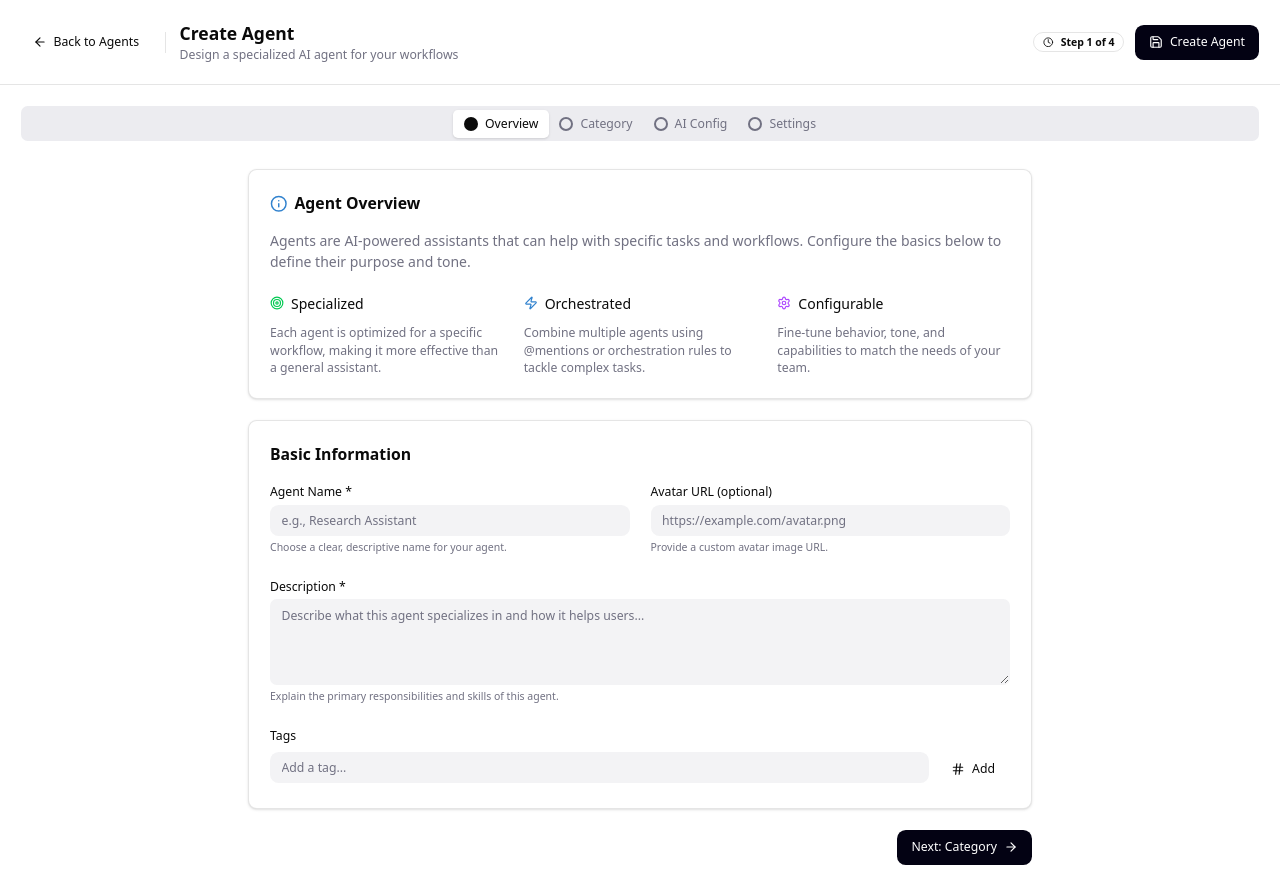
Test case: SubAgentCreate wizard flow › should alert overview validation when required fields are missing
The image size is (1280, 885).
Click the button "Create Agent": (1197, 42) [1135,24,1259,60]
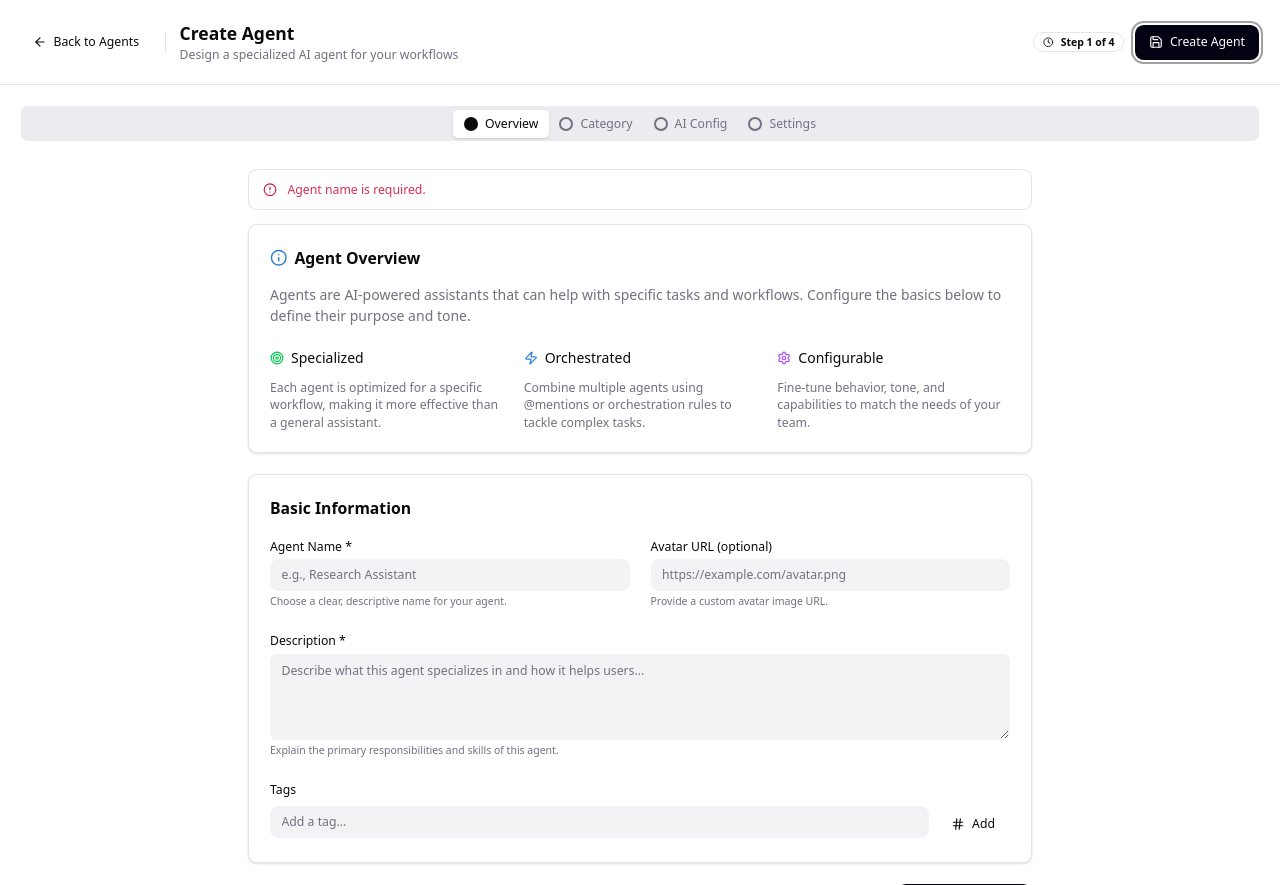
Expected: the text "Step 1 of 4" is shown, [1033,32,1124,52]
Result: the text "Agent name is required." is shown at [288,180,426,198]
